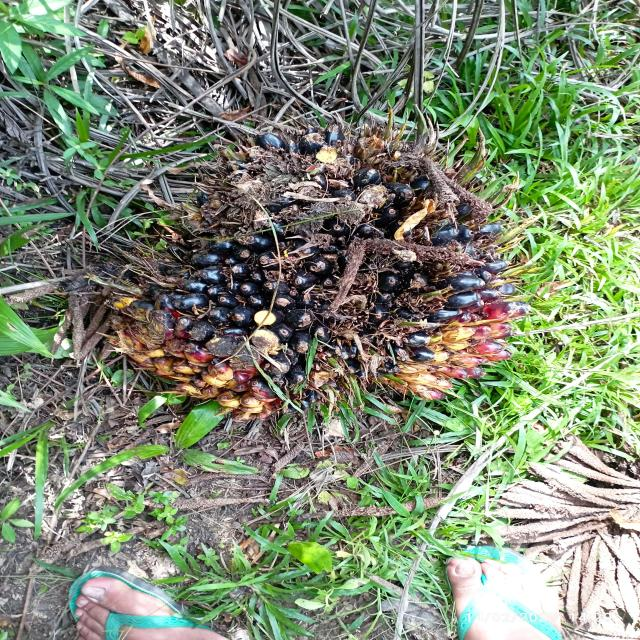fraksi 00: (90, 108, 540, 446)
